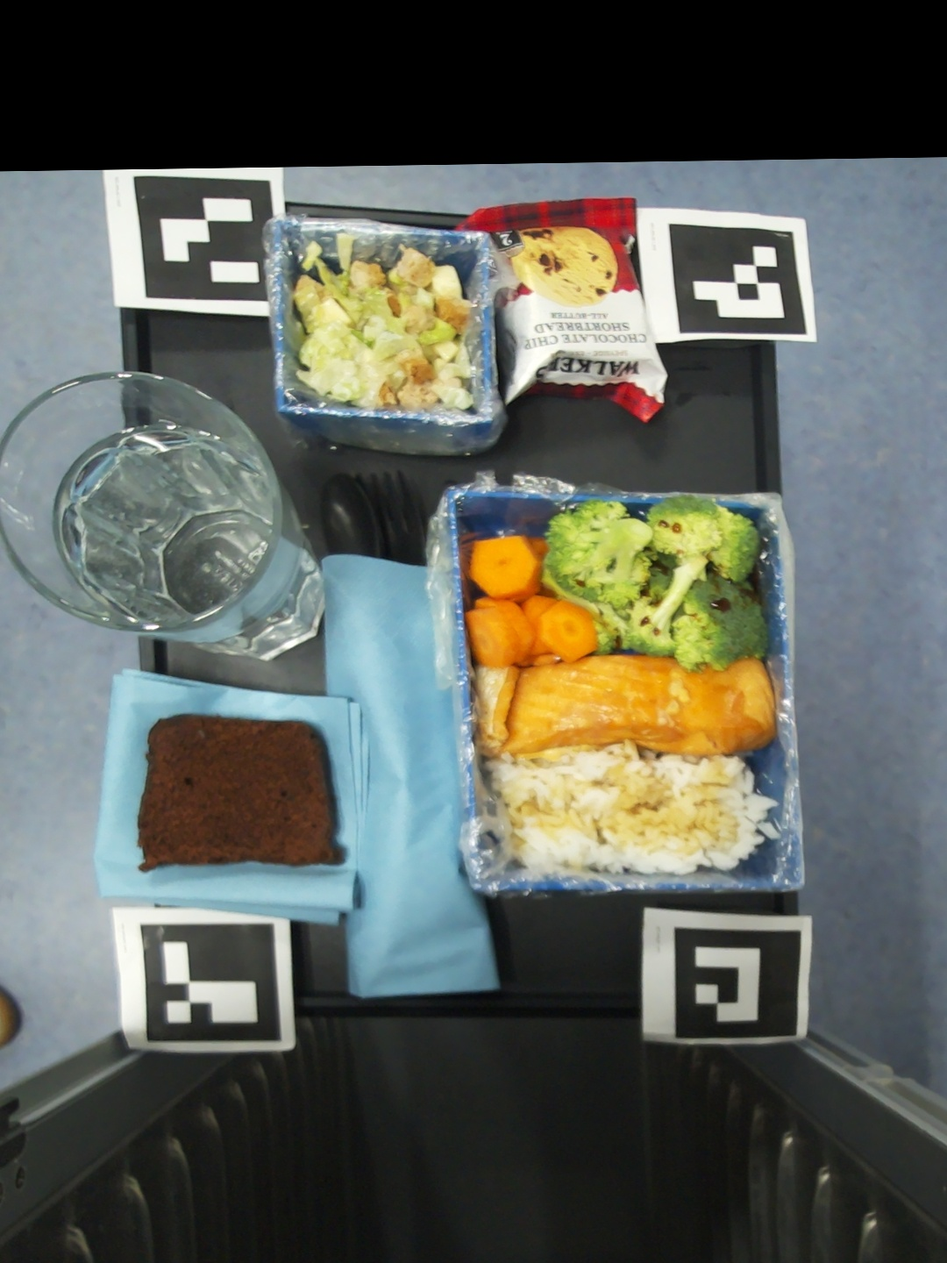broccoli: (543, 496, 770, 671)
brownie: (138, 715, 341, 872)
carrots: (466, 536, 597, 667)
cookie: (456, 195, 667, 423)
fish_salmon: (471, 655, 777, 761)
rice: (484, 744, 782, 875)
side_salad: (293, 232, 475, 411)
water_bottle: (0, 371, 326, 660)
